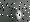person: (17, 10, 24, 21)
